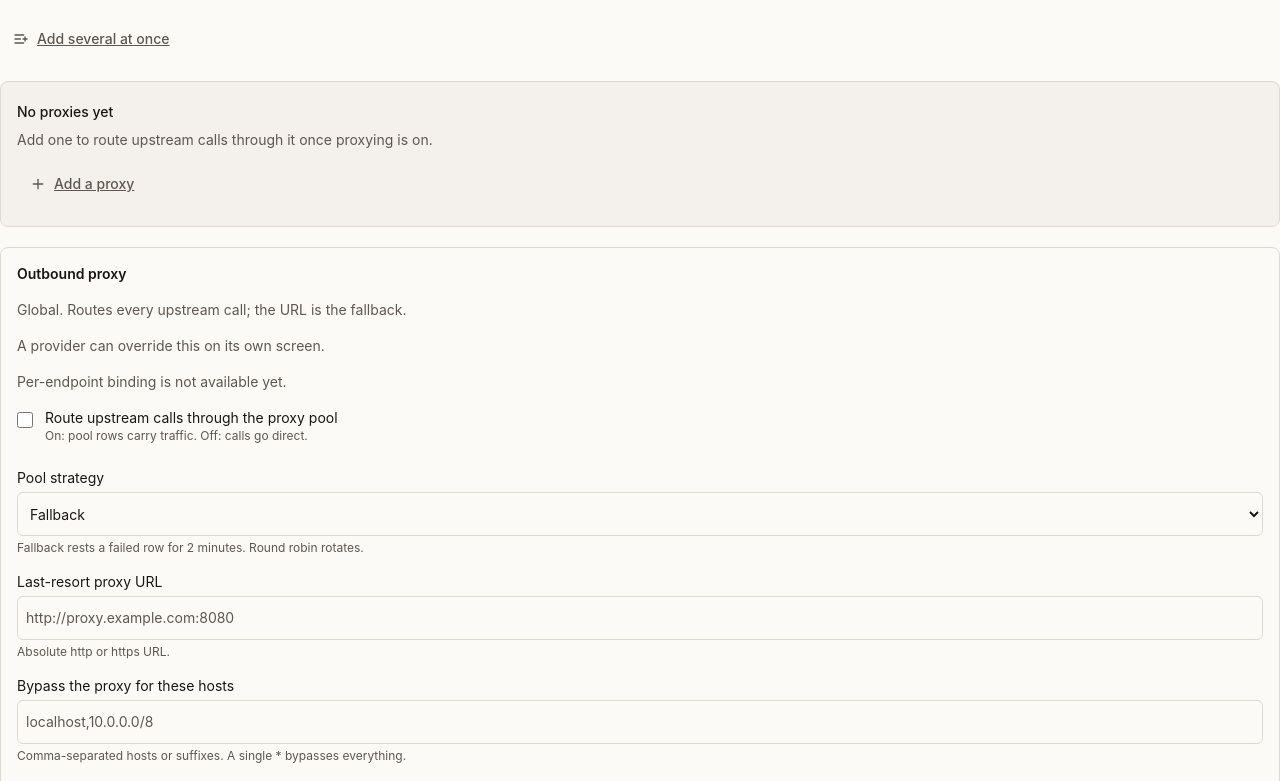
Test case: outbound settings › shows the server message when a save is refused and keeps the draft
The width and height of the screenshot is (1280, 781).
Type "http://proxy.internal:8080" into the field labelled "Last-resort proxy URL".
click(640, 618); type("http://proxy.internal:8080")  # box [17, 596, 1263, 640]
(page scrolled)
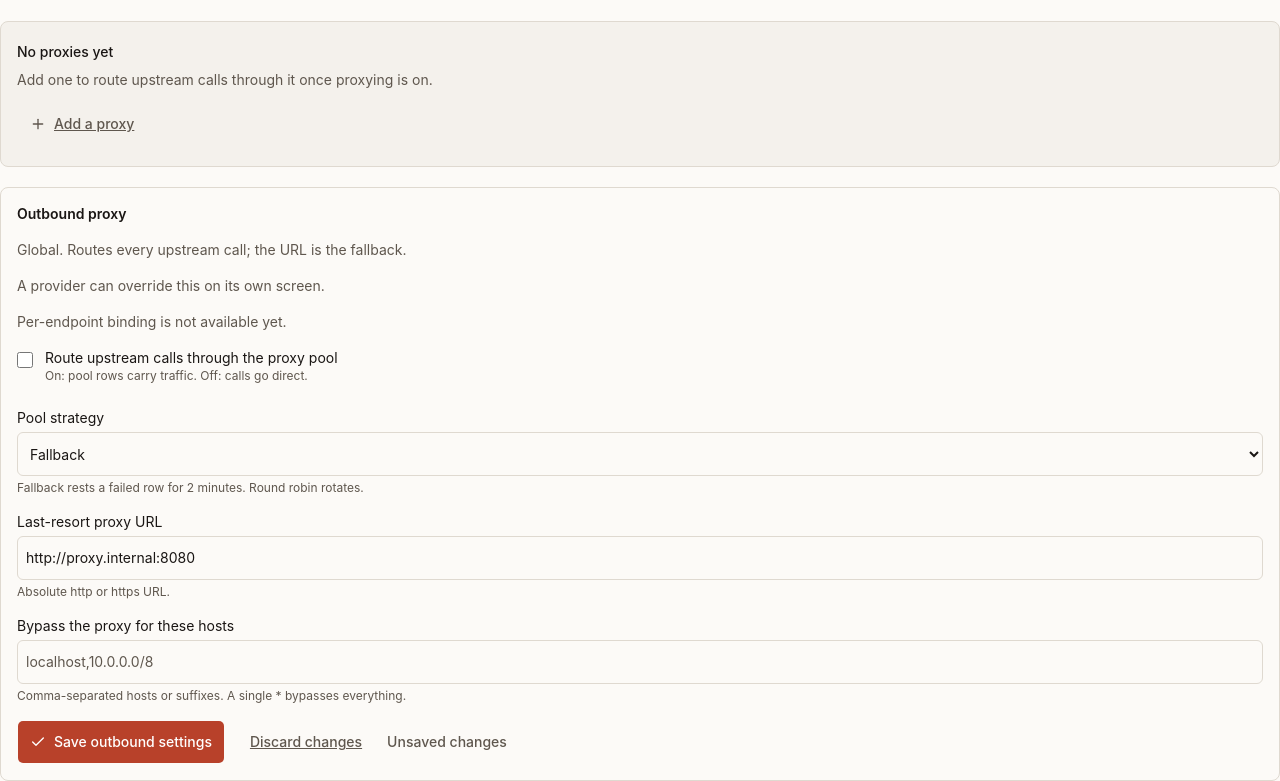
Click the button "Save outbound settings".
click(121, 742)  # box [17, 720, 225, 764]
(page scrolled)
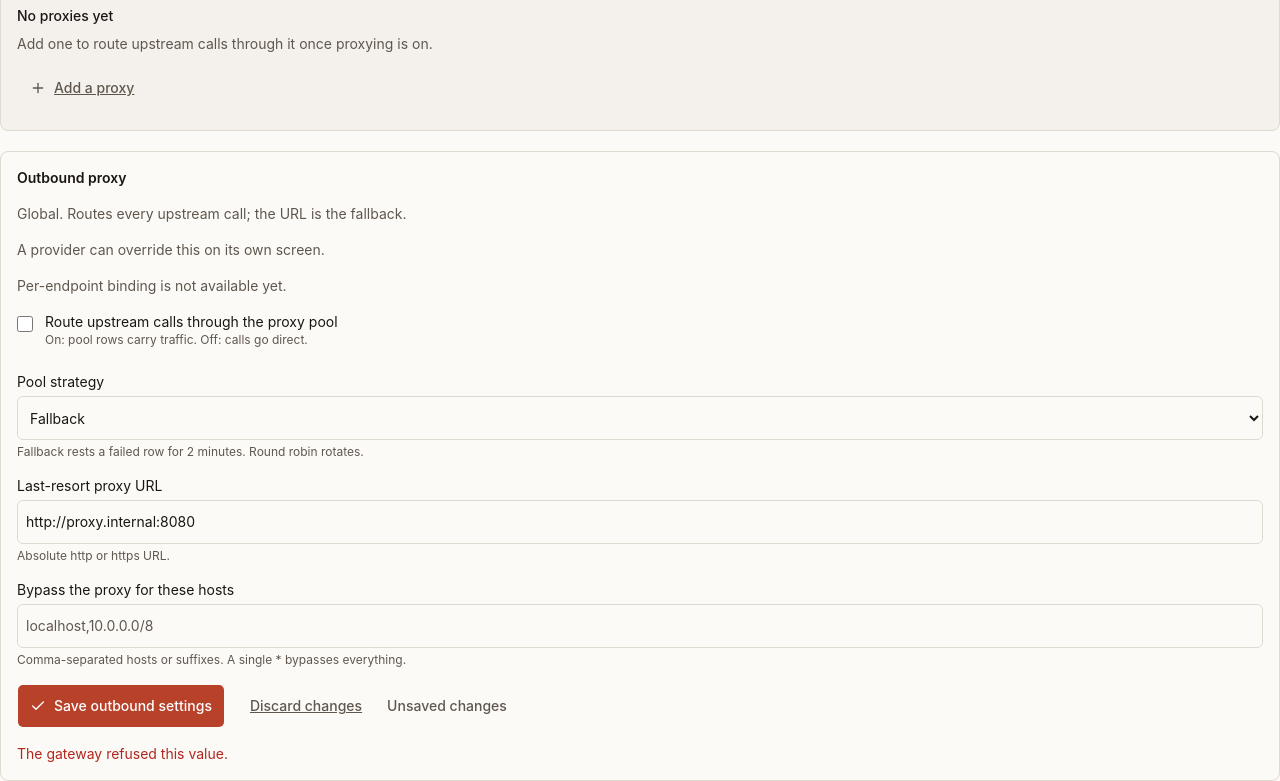
Expected: the text "The gateway refused this value." is shown, [17, 745, 228, 762]
